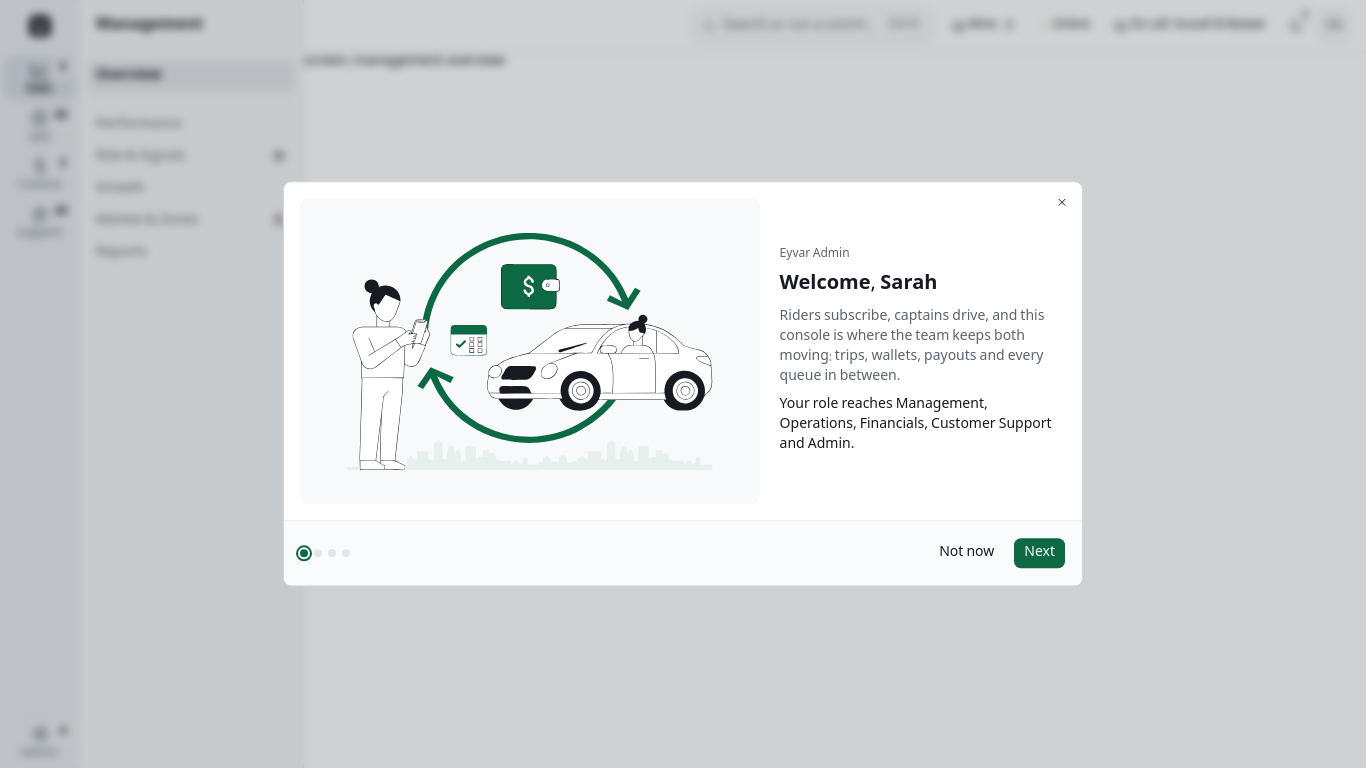
Test case: AC-594 — "the welcome opens automatically exactly once, on the first session" › leaves the layer closed after Not now, and shows the beacon instead
The image size is (1366, 768).
Expected: the dialog is shown, [283, 181, 1083, 587]
Click the button "Not now": point(967, 554) [928, 538, 1005, 570]
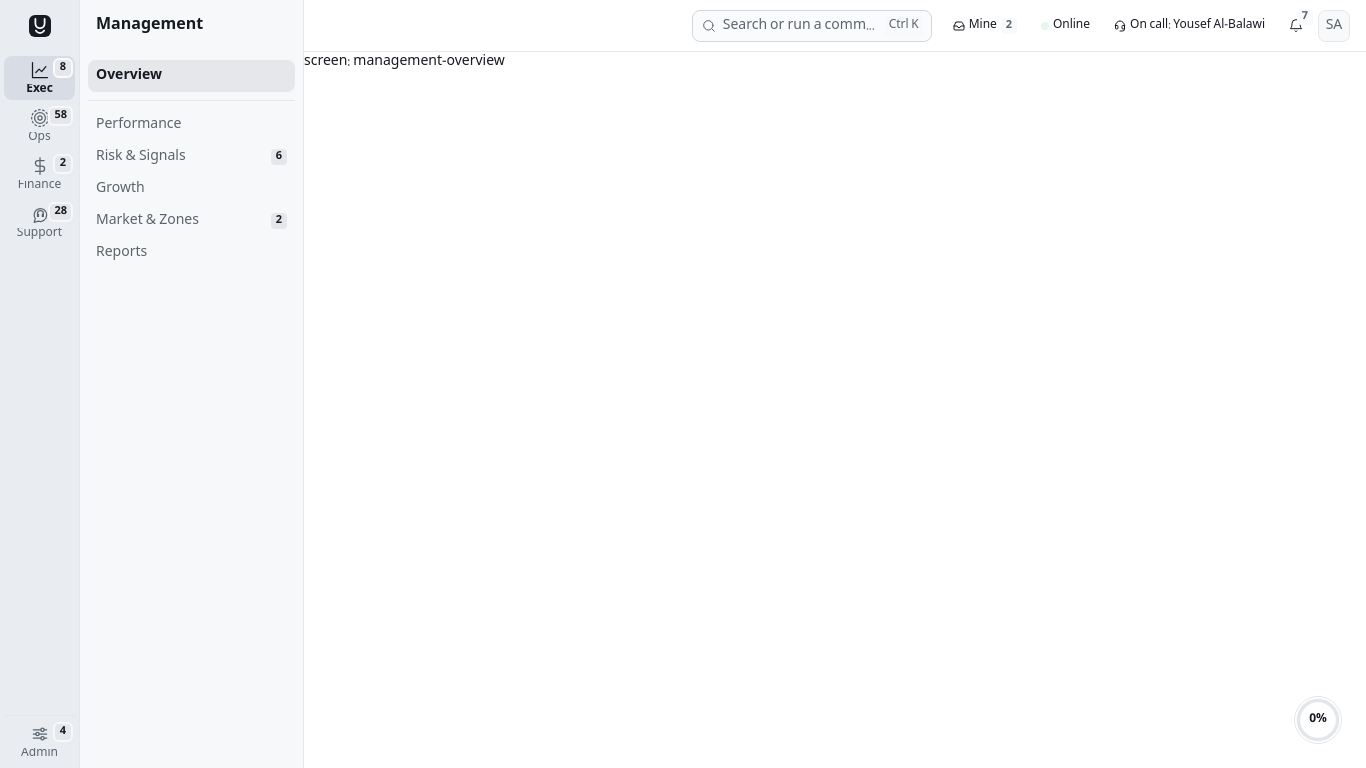
Result: the dialog is gone
Result: the element with test id "onboarding-beacon" is shown at [1294, 696, 1342, 744]
